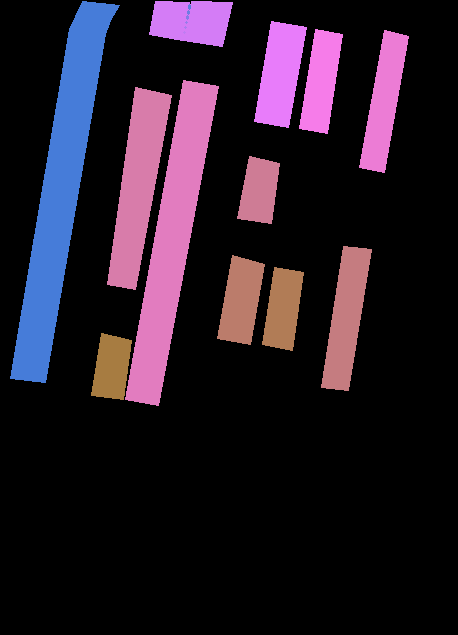parkingspot: (9, 0, 119, 382), (124, 79, 218, 405), (106, 86, 171, 289), (320, 245, 371, 390), (358, 29, 408, 172), (253, 20, 306, 127), (298, 28, 342, 133), (216, 254, 264, 344), (261, 266, 303, 350), (236, 155, 279, 223), (90, 332, 131, 399), (182, 0, 232, 46), (148, 0, 189, 40)
